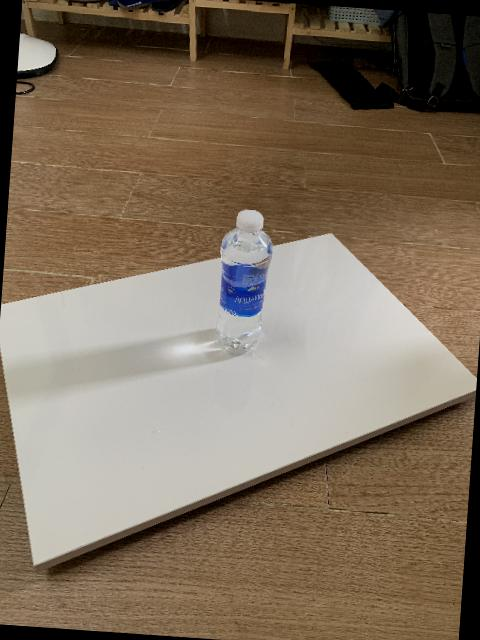aquafina: (215, 209, 273, 351)
